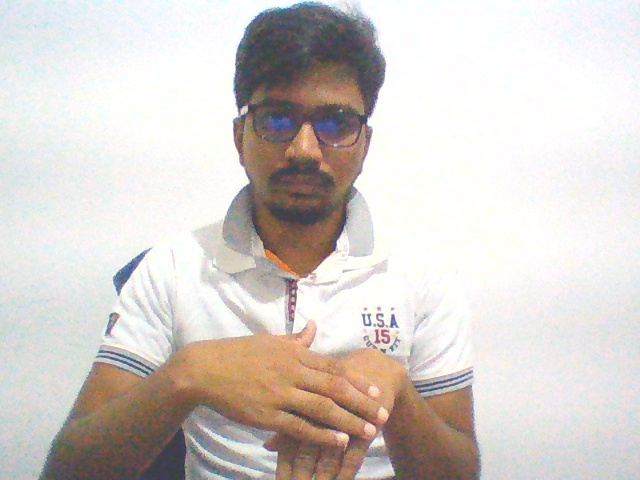pineapple: (164, 306, 412, 480)
